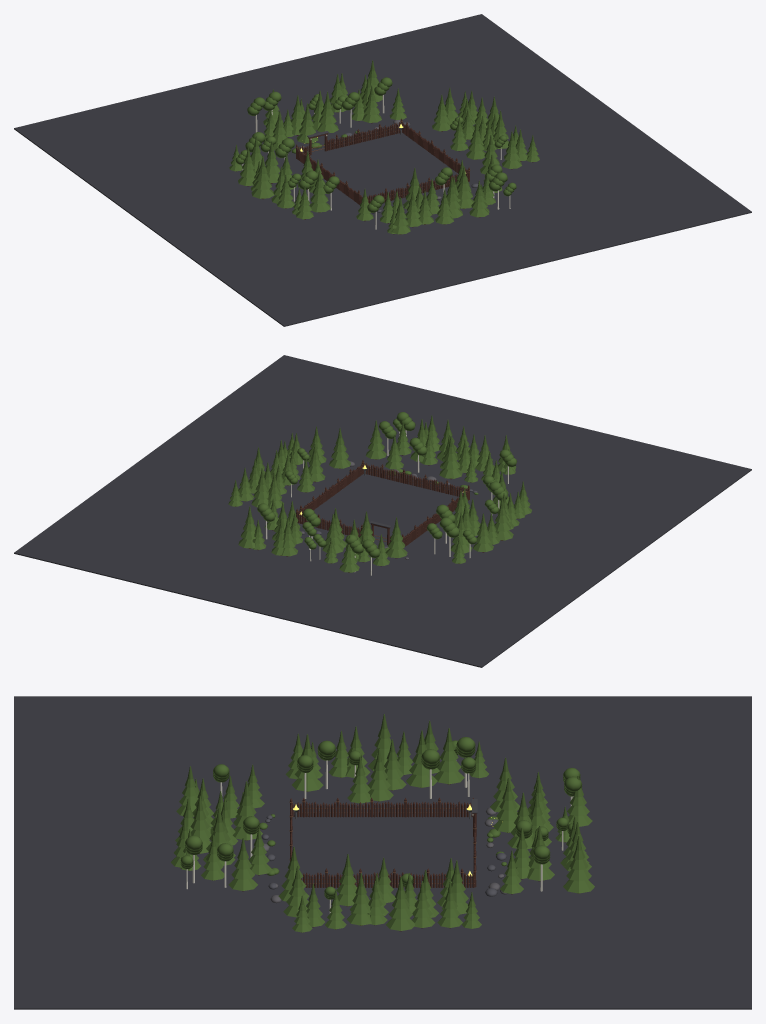
The model's file is noir_arena.glb.
3 views of the same model, one above another, from view 1: azimuth 30°, elevation 25°; view 2: azimuth 150°, elevation 25°; view 3: azimuth 270°, elevation 25° (orthographic). The views are drawn at different scales.
Parts seen in each view (by area): view 1: noir_arena; view 2: noir_arena; view 3: noir_arena.
Part boxes in pixels (x1=…): noir_arena: x1=14, y1=14, x2=751, y2=326; noir_arena: x1=14, y1=355, x2=751, y2=667; noir_arena: x1=14, y1=696, x2=751, y2=1009.
Bounding box in the file's own units: 90 × 8.26 × 90.
